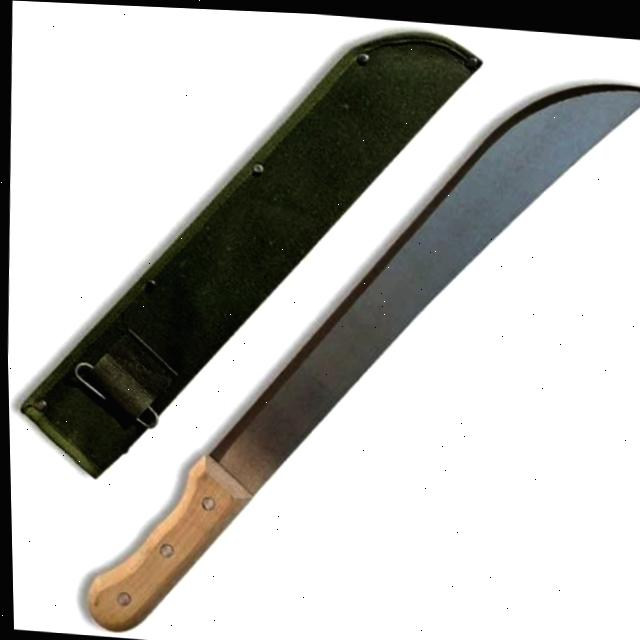long knife: (61, 12, 640, 640)
